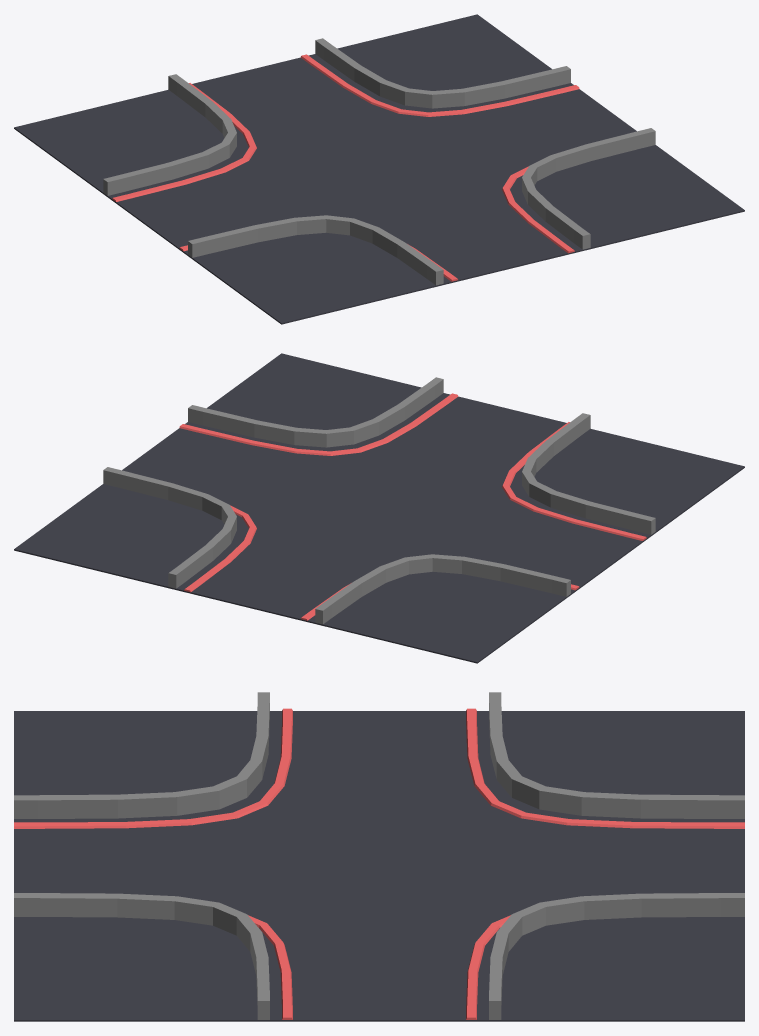
The model's file is kartkids_base_trk_160_jct_4way_3x3.glb.
The picture shows the model from 3 angles, top to bottom: view 1: azimuth 30°, elevation 25°; view 2: azimuth 150°, elevation 25°; view 3: azimuth 270°, elevation 25°; orthographic projection. The views are drawn at different scales.
Visible parts, largest first — view 1: kartkids_base_trk_010_rd_straight_1x1.061, kartkids_base_trk_020_trn_90_l_1x1.051, kartkids_base_trk_020_trn_90_l_1x1.056; view 2: kartkids_base_trk_010_rd_straight_1x1.061, kartkids_base_trk_020_trn_90_l_1x1.051, kartkids_base_trk_020_trn_90_l_1x1.056; view 3: kartkids_base_trk_010_rd_straight_1x1.061, kartkids_base_trk_020_trn_90_l_1x1.051, kartkids_base_trk_020_trn_90_l_1x1.056.
Boxes of the visible parts, x1,y1,x2,y2 form: kartkids_base_trk_010_rd_straight_1x1.061: [14, 14, 744, 324]; kartkids_base_trk_020_trn_90_l_1x1.051: [103, 38, 655, 285]; kartkids_base_trk_020_trn_90_l_1x1.056: [112, 54, 579, 281]; kartkids_base_trk_010_rd_straight_1x1.061: [14, 353, 744, 663]; kartkids_base_trk_020_trn_90_l_1x1.051: [103, 377, 655, 624]; kartkids_base_trk_020_trn_90_l_1x1.056: [179, 393, 646, 620]; kartkids_base_trk_010_rd_straight_1x1.061: [14, 711, 744, 1021]; kartkids_base_trk_020_trn_90_l_1x1.051: [14, 692, 744, 1019]; kartkids_base_trk_020_trn_90_l_1x1.056: [14, 708, 744, 1019].
Size of the model in its own units: 30 by 0.935 by 30.
